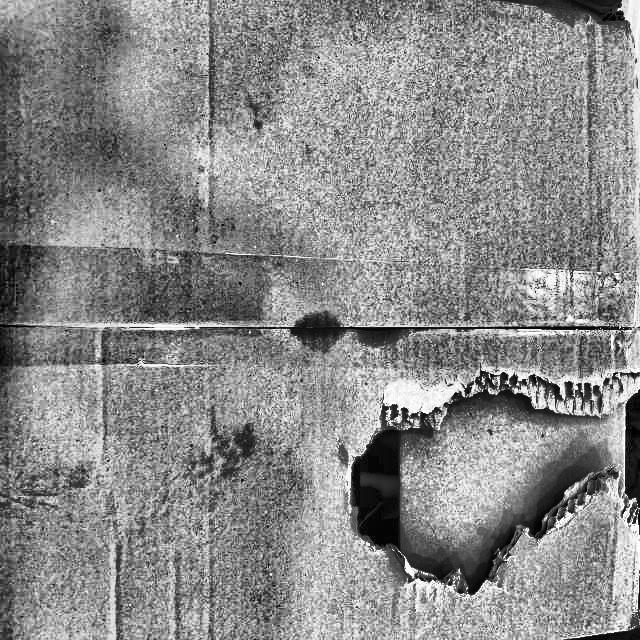box: (1, 0, 639, 639)
hole: (348, 409, 411, 563)
